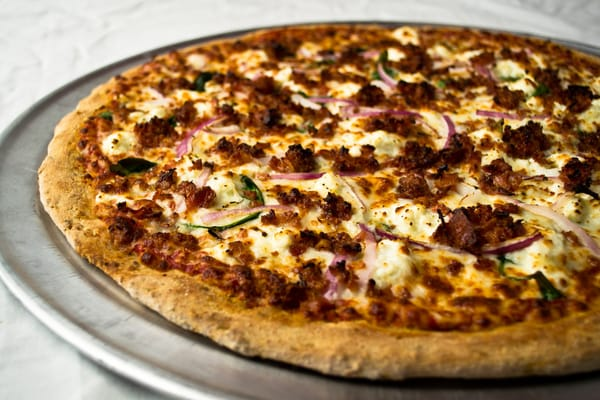curry: (1, 2, 558, 392)
sandwich: (41, 21, 600, 382)
